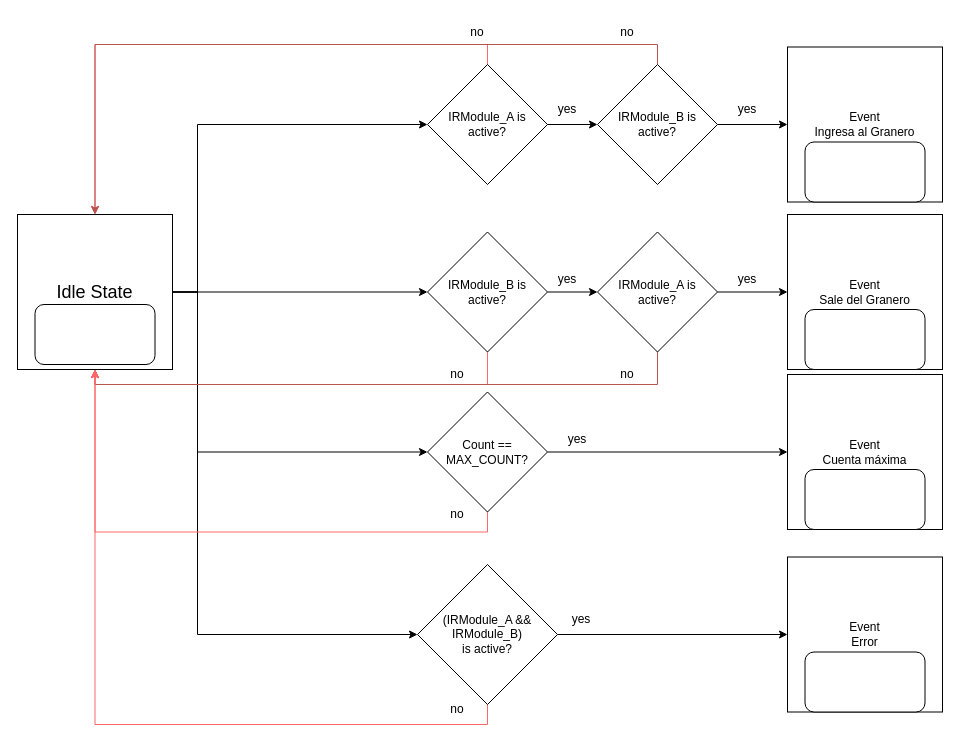
The diagram is 960 pixels wide and 750 high, and some of its shapes have lost their labels. The centre of each missing label's shape, as x and y in pixels:
"Green Led_1 ON (500ms)" goes at [864,171].
"Green Led_2 ON (500ms)" goes at [864,339].
"Polls input register" goes at [94,334].
"Red Led_1 Toggle (300ms)" goes at [864,499].
"Red Led_2 Toggle (200ms)" goes at [864,681].
